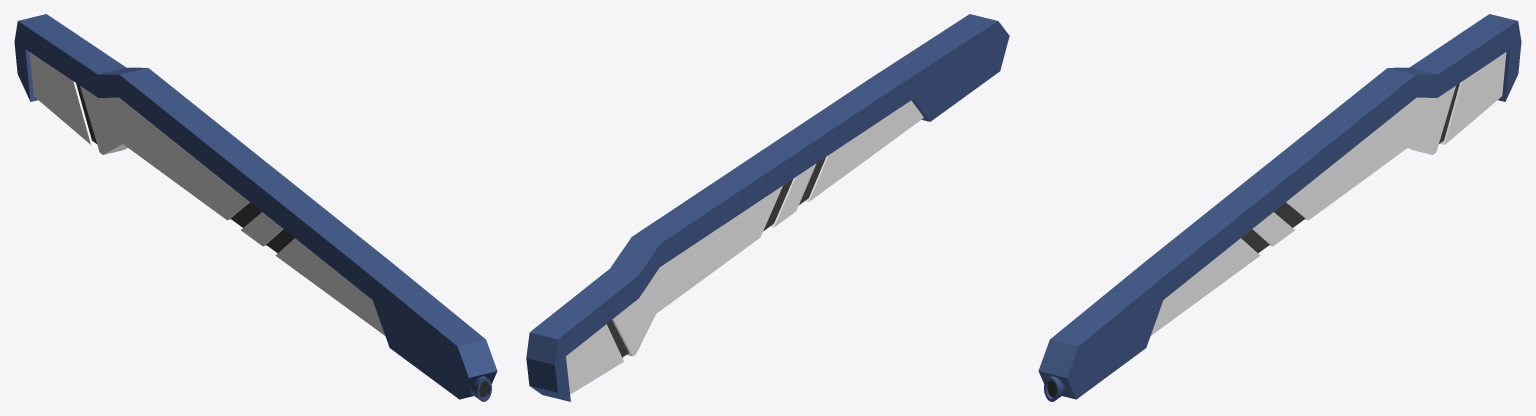
Rendered from Funnel Prefab.fbx.
3 renders of one model, left to right at view 1: azimuth 30°, elevation 25°; view 2: azimuth 150°, elevation 25°; view 3: azimuth 330°, elevation 25°, orthographic.
Parts seen in each view (by area): view 1: Cube.002, Cube.001, Cube.003; view 2: Cube.002, Cube.001, Cube.003; view 3: Cube.002, Cube.001, Cube.003.
Part boxes in pixels (x1,y1,x2,y2): Cube.002: (14, 14, 497, 399); Cube.001: (29, 52, 385, 335); Cube.003: (230, 202, 294, 253); Cube.002: (526, 14, 1009, 401); Cube.001: (566, 100, 923, 394); Cube.003: (763, 157, 825, 231); Cube.002: (1038, 14, 1521, 399); Cube.001: (1150, 52, 1506, 335); Cube.003: (1241, 202, 1305, 253).
Bounding box in the file's own units: 7.27 × 23.43 × 201.
